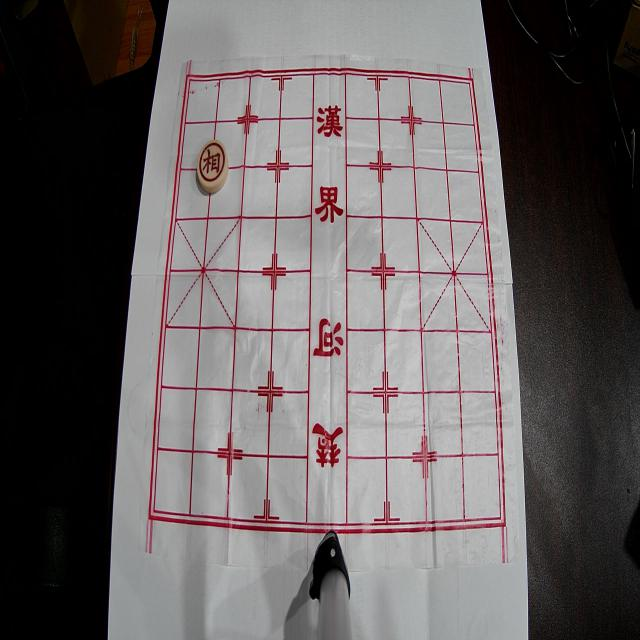red-elephant: (198, 139, 228, 193)
